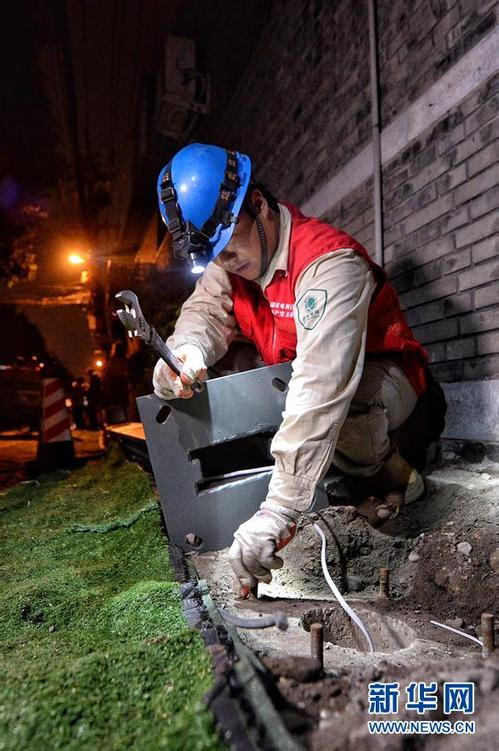gloves: (227, 508, 296, 589), (151, 343, 207, 400)
hard-hat: (156, 141, 252, 274)
person: (110, 96, 460, 612)
ppe-suit: (159, 198, 434, 522)
